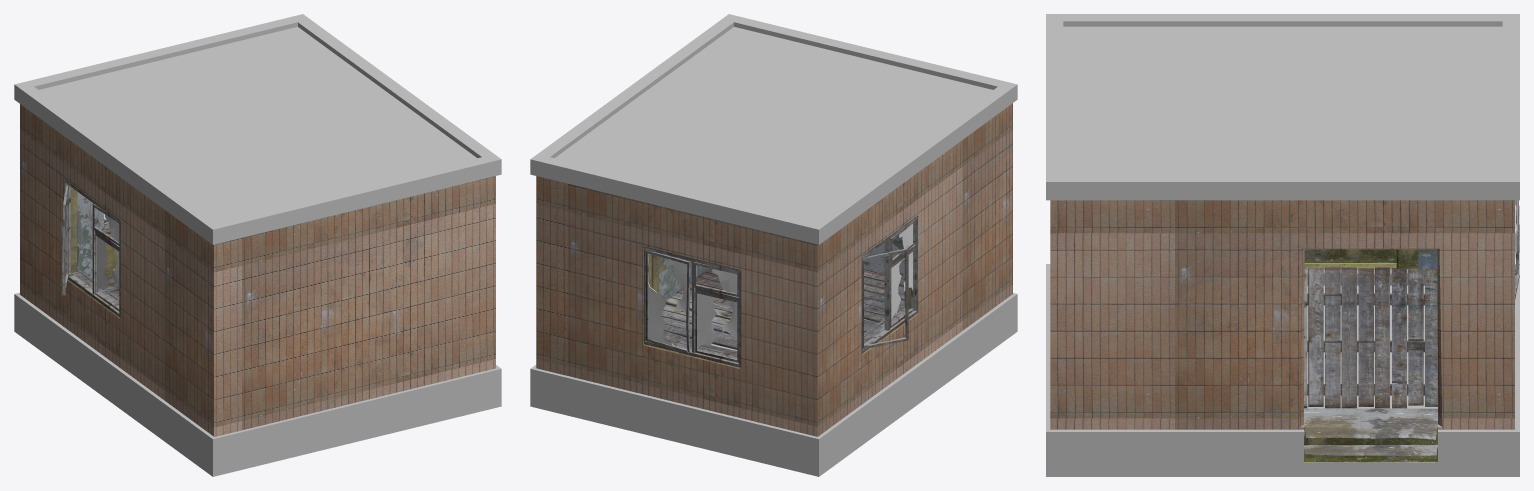
Rendered from House_01.FBX.
The picture shows the model from 3 angles, left to right: view 1: azimuth 30°, elevation 25°; view 2: azimuth 150°, elevation 25°; view 3: azimuth 270°, elevation 25°; orthographic projection. The views are drawn at different scales.
Visible parts, largest first — view 1: Box173, Object016, Object017, Box185, Object018, Plane004, Box156, Plane006; view 2: Box173, Object015, Object017, Box185, Object016, Object014, Box156, Object018, Plane005, Plane001, Plane002; view 3: Box173, Object016, Box185, Plane001, Box001, Plane006.
Boxes of the visible parts, left/top/right/bottom form: Box173: left=14, top=14, right=501, bottom=244; Object016: left=214, top=176, right=495, bottom=436; Object017: left=20, top=104, right=213, bottom=436; Box185: left=14, top=292, right=501, bottom=476; Object018: left=62, top=180, right=120, bottom=317; Plane004: left=77, top=192, right=103, bottom=277; Box156: left=96, top=214, right=119, bottom=291; Plane006: left=64, top=179, right=119, bottom=318; Box173: left=530, top=14, right=1017, bottom=244; Object015: left=568, top=184, right=817, bottom=436; Object017: left=817, top=104, right=1012, bottom=436; Box185: left=530, top=293, right=1017, bottom=476; Object016: left=536, top=103, right=1012, bottom=375; Object014: left=643, top=247, right=741, bottom=367; Box156: left=648, top=224, right=912, bottom=349; Object018: left=861, top=216, right=917, bottom=353; Plane005: left=665, top=267, right=904, bottom=333; Plane001: left=661, top=304, right=737, bottom=354; Plane002: left=659, top=235, right=904, bottom=300; Box173: left=1046, top=14, right=1519, bottom=200; Object016: left=1050, top=200, right=1514, bottom=429; Box185: left=1046, top=264, right=1519, bottom=476; Plane001: left=1304, top=267, right=1437, bottom=408; Box001: left=1304, top=408, right=1437, bottom=462; Plane006: left=1304, top=249, right=1424, bottom=285.
Bounding box in the file's own units: 4.25 × 2.98 × 4.34.
